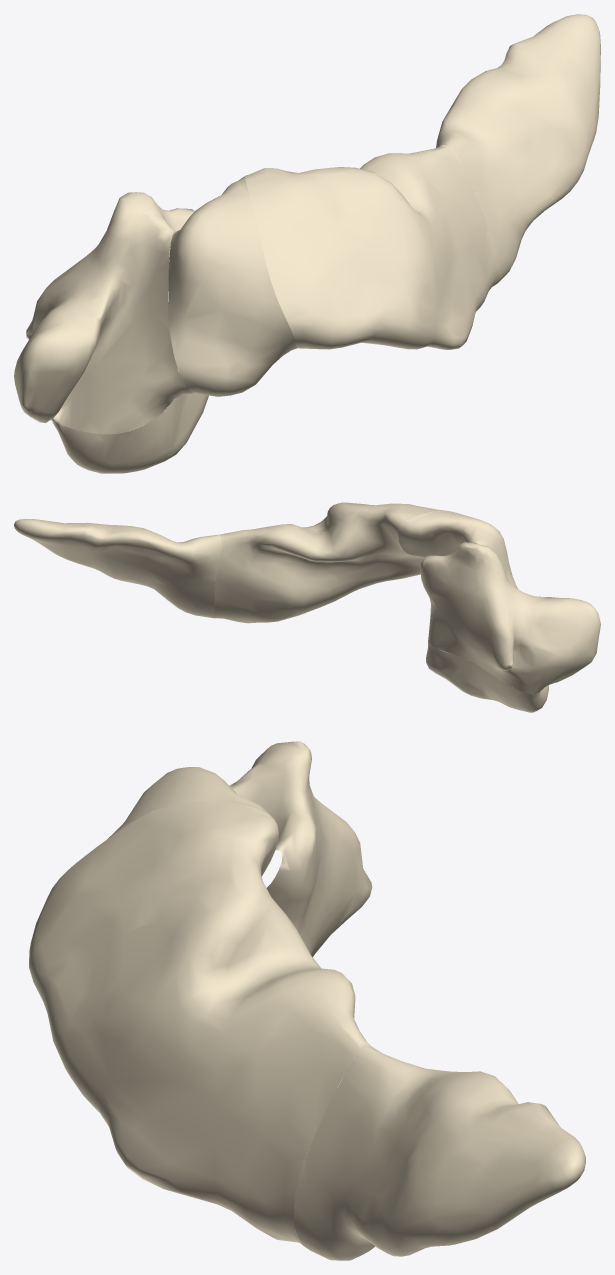
Rendered from vh_f_pancreas-40.glb.
3 renders of one model, top to bottom at view 1: azimuth 30°, elevation 25°; view 2: azimuth 150°, elevation 25°; view 3: azimuth 270°, elevation 25°, orthographic. The views are drawn at different scales.
Visible parts, largest first — view 1: VH_F_body_of_pancreas, VH_F_head_of_pancreas, VH_F_tail_of_pancreas, VH_F_neck_of_pancreas, VH_F_uncinate_process; view 2: VH_F_body_of_pancreas, VH_F_head_of_pancreas, VH_F_tail_of_pancreas, VH_F_neck_of_pancreas, VH_F_uncinate_process; view 3: VH_F_body_of_pancreas, VH_F_tail_of_pancreas, VH_F_head_of_pancreas, VH_F_neck_of_pancreas.
Boxes of the visible parts, x1=… form: VH_F_body_of_pancreas: x1=245, y1=145, x2=500, y2=349; VH_F_head_of_pancreas: x1=14, y1=192, x2=194, y2=434; VH_F_tail_of_pancreas: x1=436, y1=14, x2=600, y2=281; VH_F_neck_of_pancreas: x1=168, y1=176, x2=296, y2=396; VH_F_uncinate_process: x1=52, y1=393, x2=208, y2=473; VH_F_body_of_pancreas: x1=213, y1=502, x2=448, y2=623; VH_F_head_of_pancreas: x1=420, y1=542, x2=600, y2=694; VH_F_tail_of_pancreas: x1=14, y1=519, x2=221, y2=617; VH_F_neck_of_pancreas: x1=398, y1=511, x2=517, y2=588; VH_F_uncinate_process: x1=426, y1=642, x2=548, y2=712; VH_F_body_of_pancreas: x1=29, y1=800, x2=370, y2=1244; VH_F_tail_of_pancreas: x1=293, y1=1046, x2=585, y2=1260; VH_F_head_of_pancreas: x1=202, y1=741, x2=372, y2=957; VH_F_neck_of_pancreas: x1=107, y1=767, x2=272, y2=839.
Size of the model in its own units: 0.1721 by 0.0579 by 0.0844.
